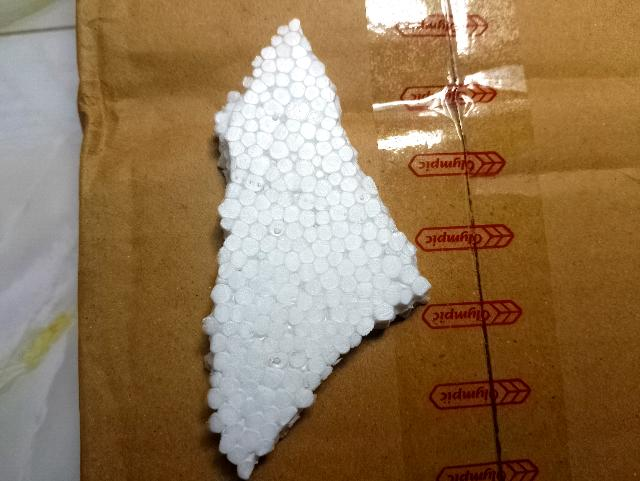cocksheet: (209, 26, 420, 481)
